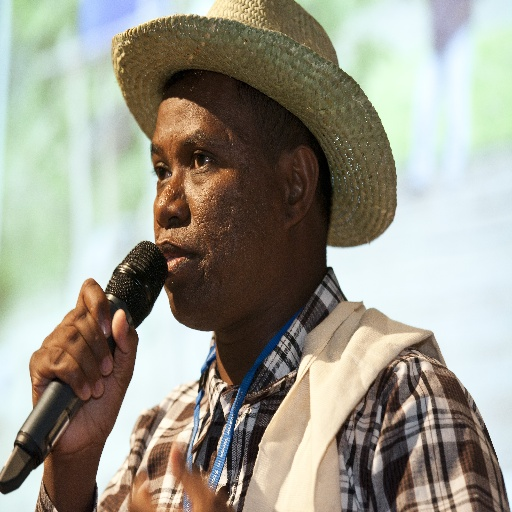hand: (16, 279, 143, 475), (126, 440, 236, 511)
